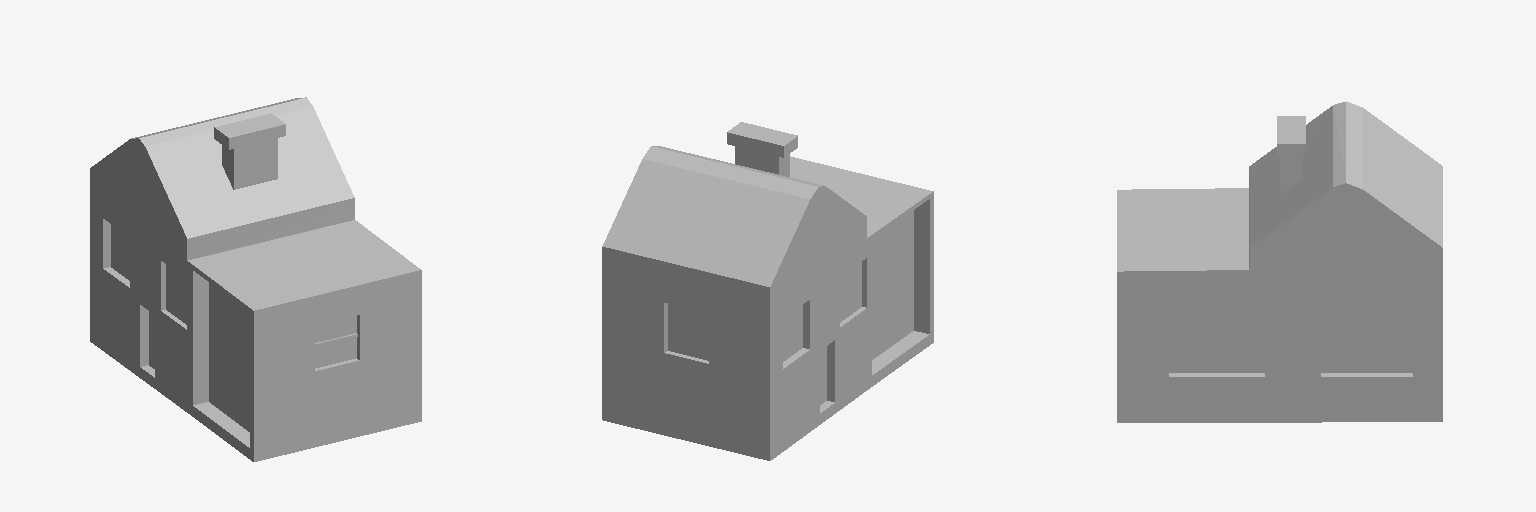
Rendered from House Verison 1.obj.
3 views of the same model, side by side, from view 1: azimuth 30°, elevation 25°; view 2: azimuth 150°, elevation 25°; view 3: azimuth 270°, elevation 25° (orthographic).
Parts seen in each view (by area): view 1: Cube.002_Cube.005; view 2: Cube.002_Cube.005; view 3: Cube.002_Cube.005.
Boxes of the visible parts, x1,y1,x2,y2 form: Cube.002_Cube.005: [90, 97, 421, 461]; Cube.002_Cube.005: [602, 122, 933, 460]; Cube.002_Cube.005: [1117, 101, 1442, 422].
Size of the model in its own units: 1.66 by 2.38 by 2.79.